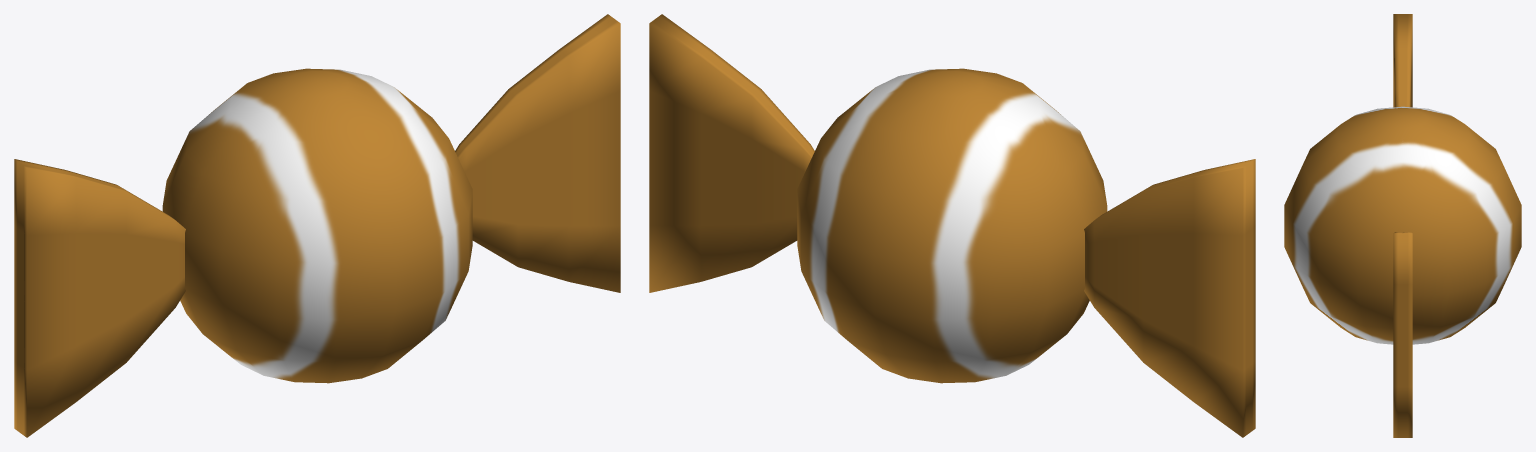
The model's file is Candy_1.fbx.
3 renders of one model, left to right at view 1: azimuth 30°, elevation 25°; view 2: azimuth 150°, elevation 25°; view 3: azimuth 270°, elevation 25°, orthographic. The views are drawn at different scales.
Visible parts, largest first — view 1: Candy 1; view 2: Candy 1; view 3: Candy 1.
Part boxes in pixels (left/top/right/bottom): Candy 1: left=14, top=14, right=620, bottom=437; Candy 1: left=649, top=14, right=1255, bottom=437; Candy 1: left=1284, top=14, right=1521, bottom=437.
Bounding box in the file's own units: 8.46 × 3.94 × 3.86.
Materials: 1 (1 with a texture image).
